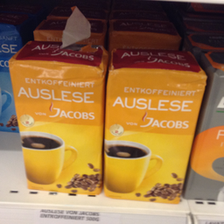coffee: (104, 48, 207, 205), (8, 41, 109, 196)
